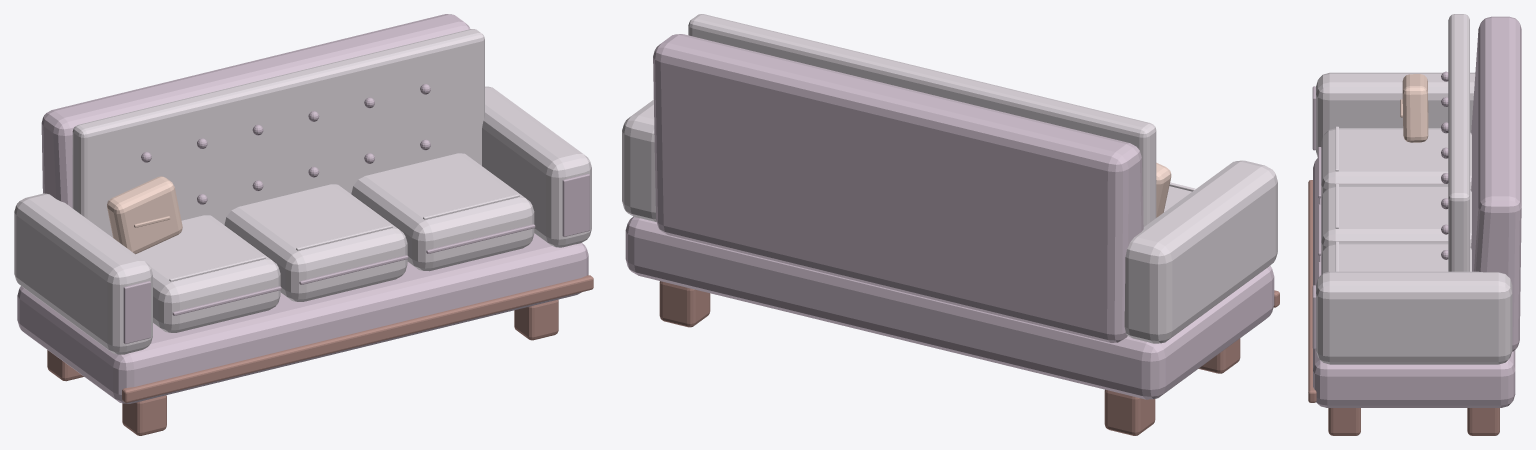
Rendered from couch_01.fbx.
3 views of the same model, side by side, from view 1: azimuth 30°, elevation 25°; view 2: azimuth 150°, elevation 25°; view 3: azimuth 270°, elevation 25° (orthographic). The views are drawn at different scales.
Visible parts, largest first — view 1: BackFaceUpholstery, MainBase, SeatCushion_1, SeatCushion_2, LeftChunkyArm, BackrestBody, SeatCushion_0, RightChunkyArm, LowerFrameTrim, ThrowPillow_0, RightArmFrontSeam, LeftArmFrontSeam (+3 smaller); view 2: BackrestBody, MainBase, LeftChunkyArm, BackFaceUpholstery, RightChunkyArm, Leg_0_1, Leg_1_1, Leg_0_0, ThrowPillow_0; view 3: RightChunkyArm, BackrestBody, MainBase, SeatCushion_1, SeatCushion_0, LeftChunkyArm, BackFaceUpholstery, SeatCushion_2, ThrowPillow_0, LowerFrameTrim, Leg_1_0, Leg_1_1 (+2 smaller).
Boxes of the visible parts, bbox=[...] form: BackFaceUpholstery: bbox=[72, 29, 484, 237]; MainBase: bbox=[17, 233, 588, 403]; SeatCushion_1: bbox=[224, 184, 407, 301]; SeatCushion_2: bbox=[351, 153, 534, 271]; LeftChunkyArm: bbox=[14, 193, 152, 354]; BackrestBody: bbox=[41, 14, 470, 207]; SeatCushion_0: bbox=[135, 215, 280, 332]; RightChunkyArm: bbox=[482, 86, 591, 247]; LowerFrameTrim: bbox=[122, 275, 593, 402]; ThrowPillow_0: bbox=[107, 176, 182, 254]; RightArmFrontSeam: bbox=[562, 174, 589, 236]; LeftArmFrontSeam: bbox=[123, 281, 150, 343]; BackrestBody: bbox=[653, 34, 1143, 342]; MainBase: bbox=[625, 216, 1274, 399]; LeftChunkyArm: bbox=[1124, 160, 1277, 343]; BackFaceUpholstery: bbox=[688, 14, 1156, 226]; RightChunkyArm: bbox=[622, 99, 656, 221]; Leg_0_1: bbox=[1104, 389, 1155, 435]; Leg_1_1: bbox=[659, 281, 710, 327]; Leg_0_0: bbox=[1198, 338, 1240, 373]; ThrowPillow_0: bbox=[1156, 162, 1171, 217]; RightChunkyArm: bbox=[1316, 271, 1512, 364]; BackrestBody: bbox=[1471, 16, 1521, 351]; MainBase: bbox=[1313, 158, 1515, 407]; SeatCushion_1: bbox=[1321, 185, 1471, 256]; SeatCushion_0: bbox=[1321, 128, 1471, 198]; LeftChunkyArm: bbox=[1316, 72, 1475, 157]; BackFaceUpholstery: bbox=[1448, 14, 1469, 271]; SeatCushion_2: bbox=[1321, 243, 1471, 274]; ThrowPillow_0: bbox=[1402, 74, 1428, 142]; LowerFrameTrim: bbox=[1308, 180, 1316, 402]; Leg_1_0: bbox=[1328, 408, 1360, 435]; Leg_1_1: bbox=[1467, 408, 1499, 435].
Bounding box in the file's own units: 216 × 109 × 88.89.
